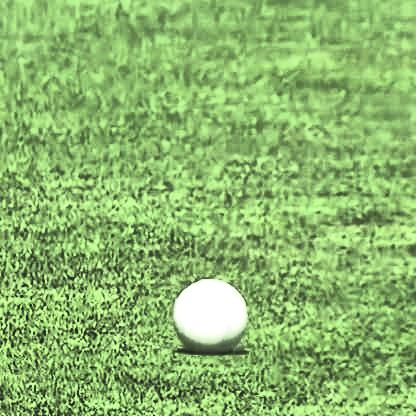golfball: (174, 288, 239, 347)
